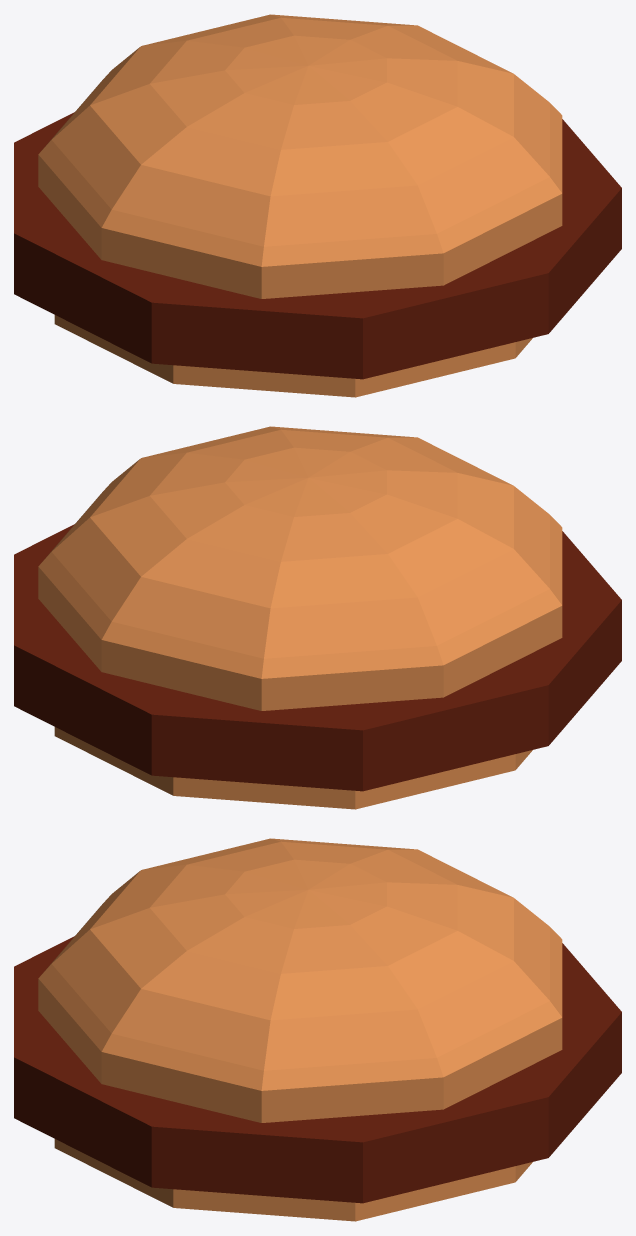
Rendered from Borgir 2.0.fbx.
The picture shows the model from 3 angles, top to bottom: view 1: azimuth 30°, elevation 25°; view 2: azimuth 150°, elevation 25°; view 3: azimuth 270°, elevation 25°; orthographic projection.
Parts seen in each view (by area): view 1: Borgar; view 2: Borgar; view 3: Borgar.
Boxes of the visible parts, x1=… form: Borgar: x1=14, y1=14, x2=621, y2=397; Borgar: x1=14, y1=426, x2=621, y2=809; Borgar: x1=14, y1=838, x2=621, y2=1221.
Bounding box in the file's own units: 197 × 87.5 × 194.
